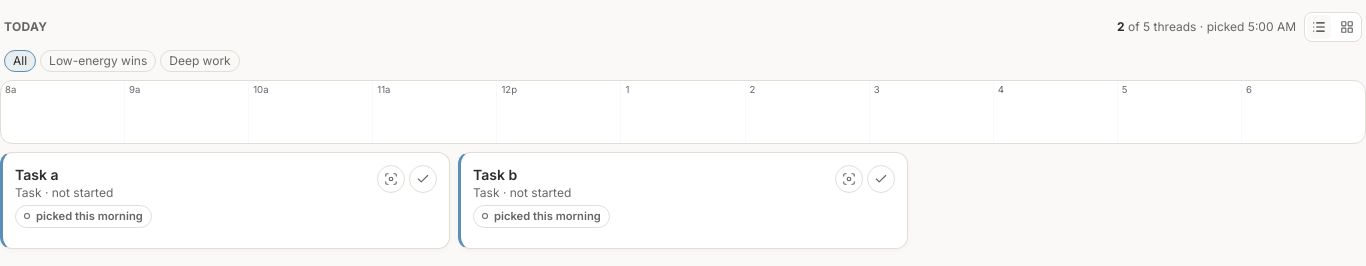
Test case: TodaySection — "N hidden by filter" empty state (Clarity Phase 7 repair) › "show all" resets the filter back to All and the list reappears
Expected: the element with test id "today-list" is shown, [0,152,908,249]
Click the button with test id "energy-filter-deep_work" at (200, 61), box [160,50,240,72]
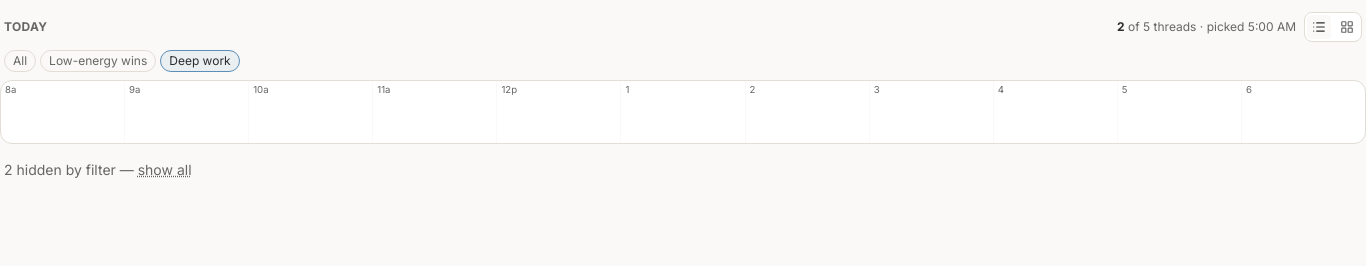
Expected: the element with test id "energy-filter-empty" is shown, [4,160,192,180]
Click the button with test id "energy-filter-show-all" at (165, 170), box [138,160,192,180]
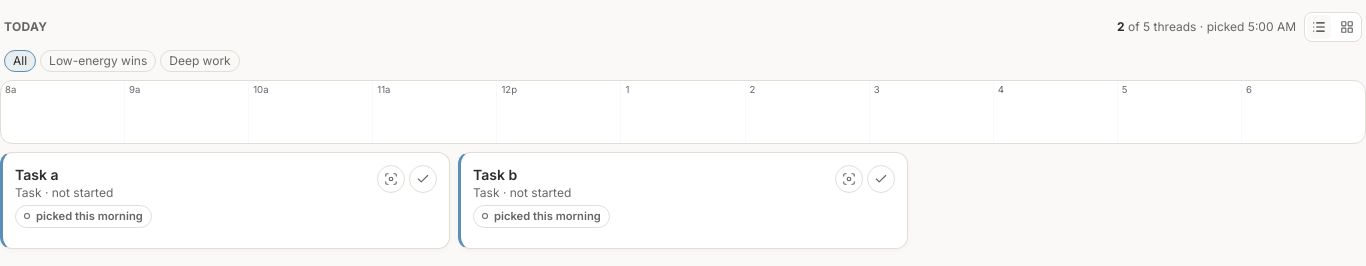
Expected: the element with test id "today-list" shows "Task a", [15,166,58,183]
Expected: the element with test id "today-list" shows "Task b", [473,166,517,183]
